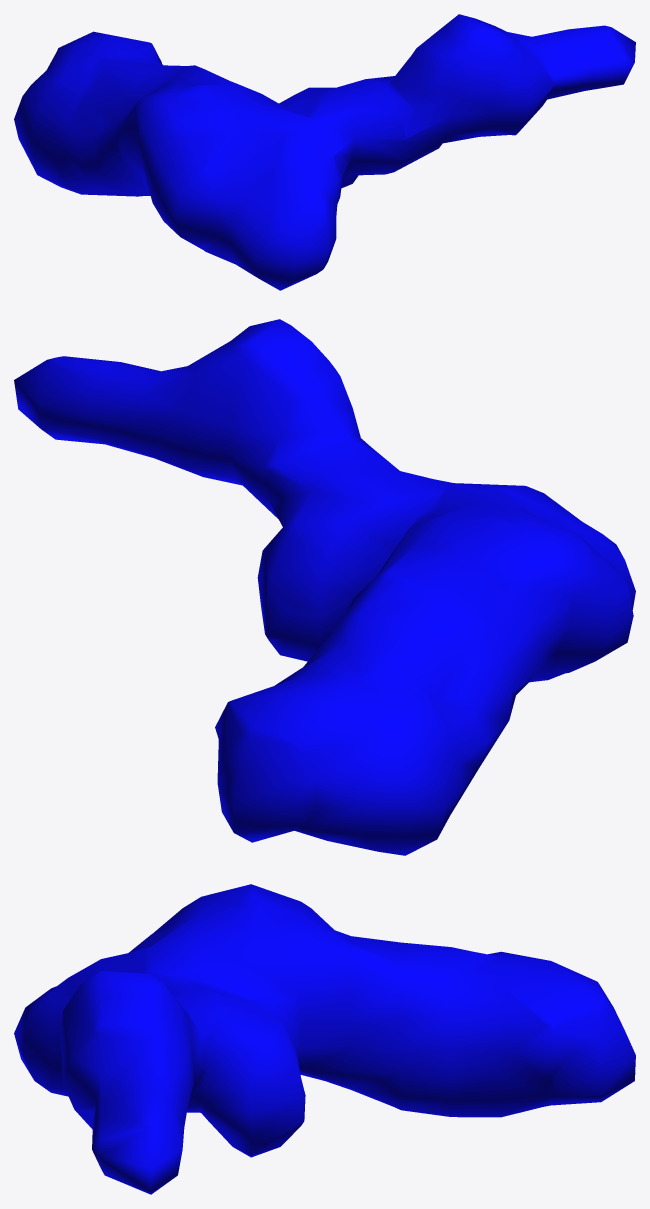
The model's file is Vesicle_187A6monomerAligned.fbx.
3 views of the same model, one above another, from view 1: azimuth 30°, elevation 25°; view 2: azimuth 150°, elevation 25°; view 3: azimuth 270°, elevation 25° (orthographic). The views are drawn at different scales.
Parts seen in each view (by area): view 1: vesicle_MeshVes187Mesh; view 2: vesicle_MeshVes187Mesh; view 3: vesicle_MeshVes187Mesh.
Part boxes in pixels (box(x1,y1,x2,y2)): vesicle_MeshVes187Mesh: box(14, 14, 635, 290); vesicle_MeshVes187Mesh: box(14, 319, 635, 855); vesicle_MeshVes187Mesh: box(14, 884, 635, 1194).
Bounding box in the file's own units: 97.48 × 43.79 × 92.12.
